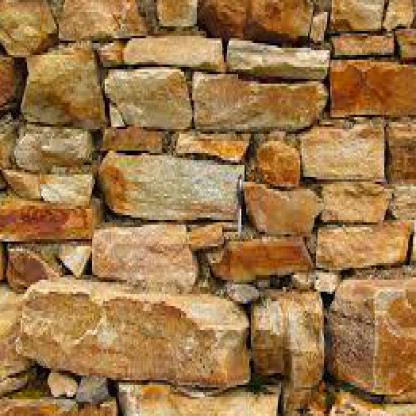Metamorphic_Quartize: (15, 287, 252, 387), (332, 267, 415, 405), (99, 148, 246, 223), (190, 67, 328, 139), (246, 280, 330, 387), (302, 105, 390, 196), (19, 43, 114, 127), (98, 58, 197, 132), (324, 55, 415, 127), (200, 0, 322, 48), (314, 170, 396, 230), (52, 0, 153, 46)
